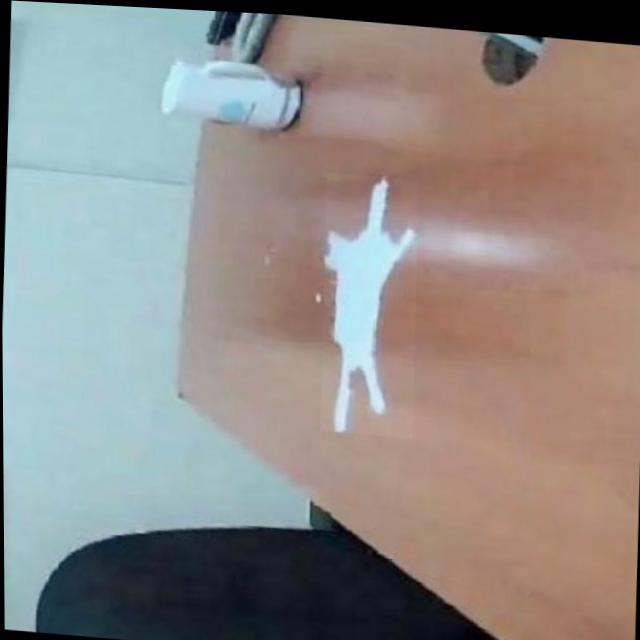spillage: (326, 172, 417, 427)
